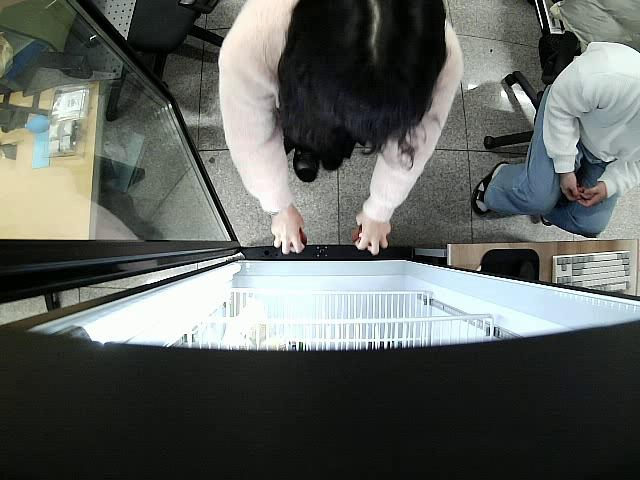00_hand: (270, 207, 308, 256), (354, 208, 392, 254)
